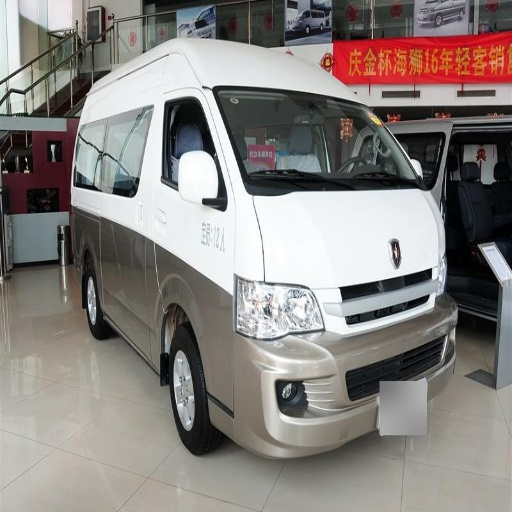front_bumper: (203, 262, 456, 457)
front_right_door: (108, 93, 233, 338)
front_right_light: (235, 279, 323, 340)
hood: (240, 188, 437, 288)
